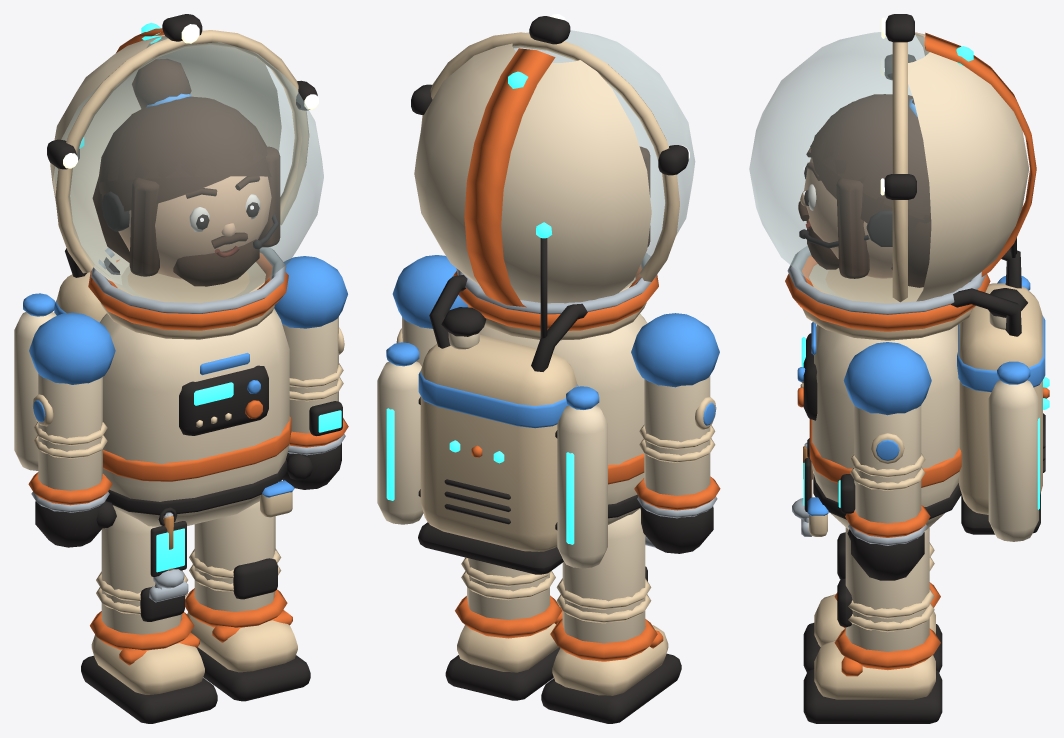
Rendered from elevate-4.glb.
The picture shows the model from 3 angles, left to right: view 1: azimuth 30°, elevation 25°; view 2: azimuth 150°, elevation 25°; view 3: azimuth 270°, elevation 25°; orthographic projection. The views are drawn at different scales.
Parts seen in each view (by area): view 1: body, leg_l, leg_r, arm_r, arm_l, hair_full, hair_short, hair_bun, beard, tool_tablet, tool_hammer; view 2: body, leg_r, arm_r, leg_l, stripe, arm_l, aerial; view 3: body, leg_l, arm_l, hair_full, hair_bun, stripe, leg_r, hair_short, beard.
Part boxes in pixels (<box>): body: <box>14,14,323,526</box>; leg_l: <box>185,501,310,701</box>; leg_r: <box>81,509,217,723</box>; arm_r: <box>28,312,116,547</box>; arm_l: <box>274,256,348,489</box>; hair_full: <box>92,97,280,276</box>; hair_short: <box>98,98,271,182</box>; hair_bun: <box>99,58,267,205</box>; beard: <box>173,232,259,286</box>; tool_tablet: <box>150,521,186,576</box>; tool_hammer: <box>149,507,188,602</box>; body: <box>377,14,695,574</box>; leg_r: <box>541,508,681,723</box>; arm_r: <box>631,313,720,553</box>; leg_l: <box>445,557,562,700</box>; stripe: <box>464,48,555,307</box>; arm_l: <box>392,255,467,366</box>; aerial: <box>536,222,552,338</box>; body: <box>749,14,1049,541</box>; leg_l: <box>803,528,942,723</box>; arm_l: <box>838,342,931,580</box>; hair_full: <box>810,95,931,287</box>; hair_bun: <box>812,94,930,221</box>; stripe: <box>924,32,1036,276</box>; leg_r: <box>803,527,942,672</box>; hair_short: <box>811,94,931,236</box>; beard: <box>798,201,838,269</box>.
Size of the model in its own units: 0.864 by 1.76 by 0.7159.
